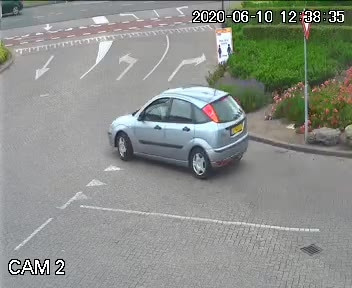car: (102, 74, 249, 186)
